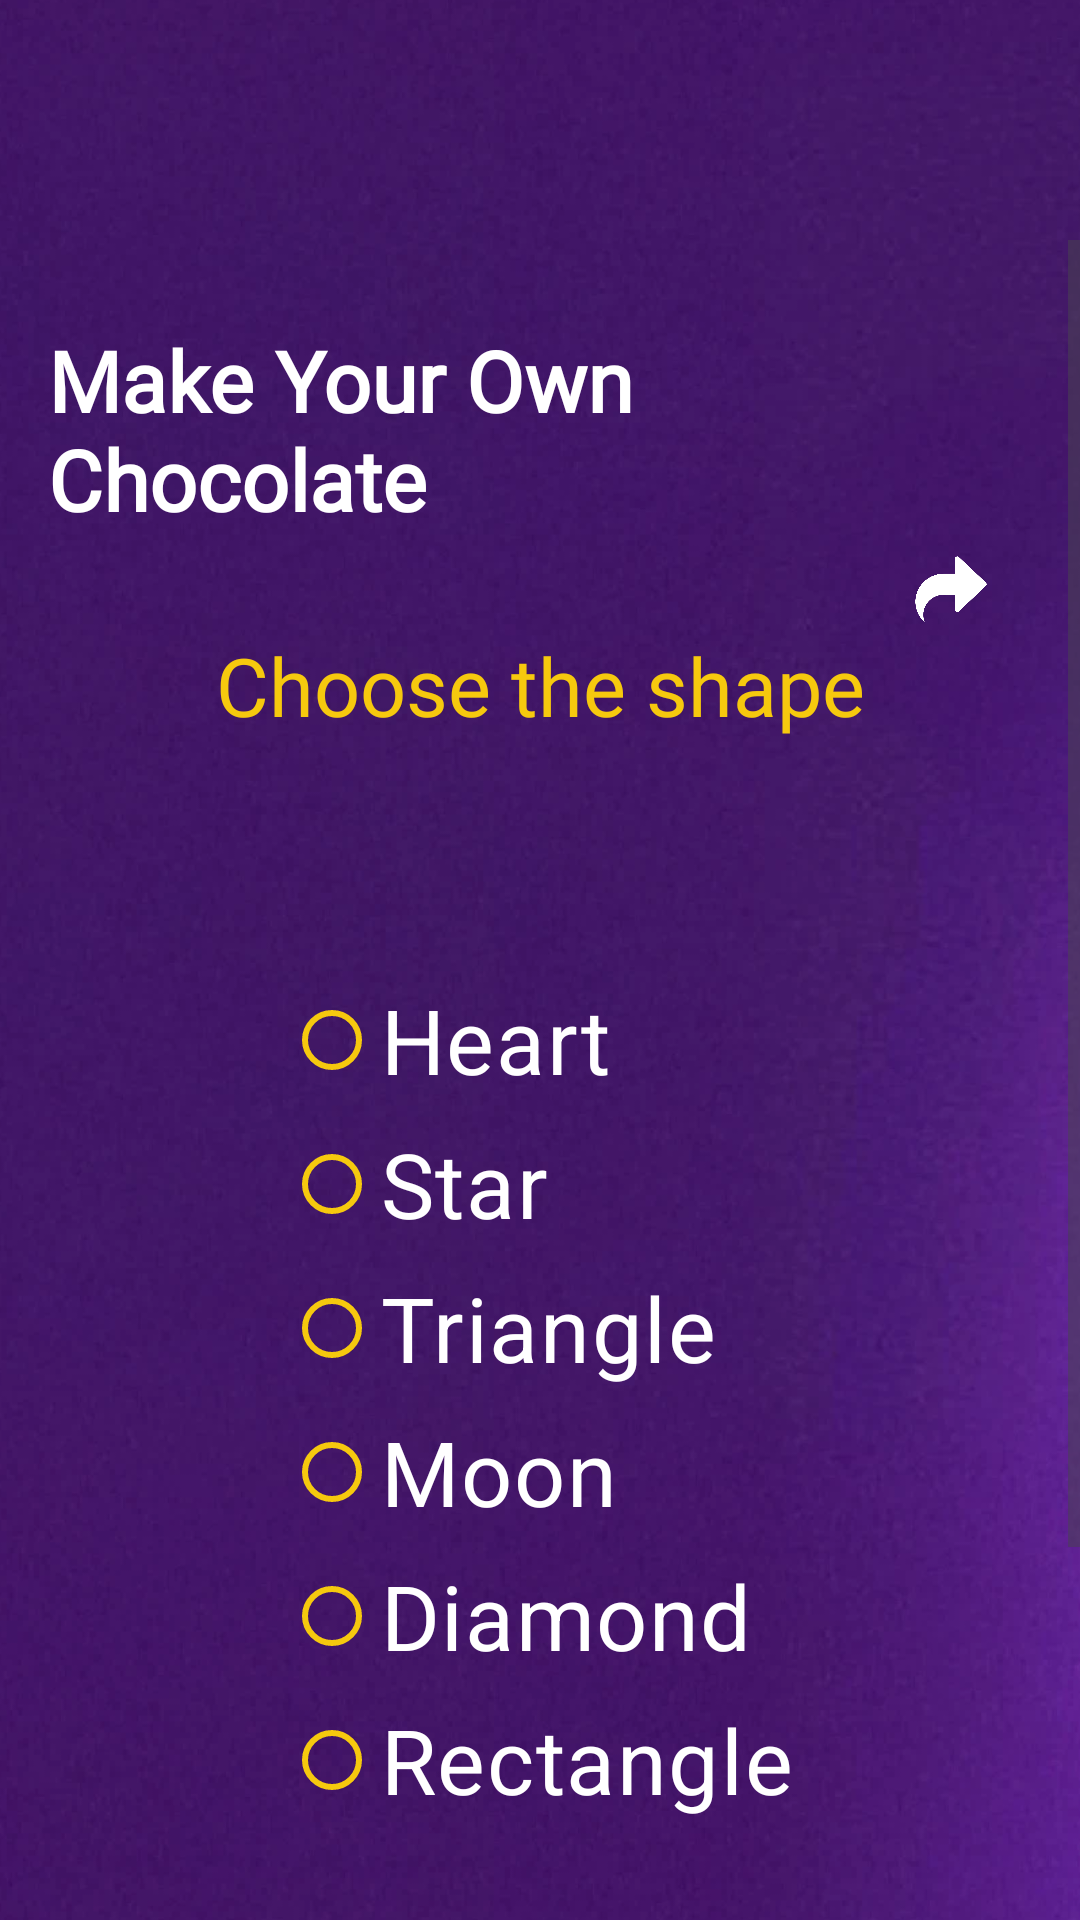

Named icons in this screenshot (1080×1920) and their centers, (x=x, y=y):
Next: (x=951, y=589)
